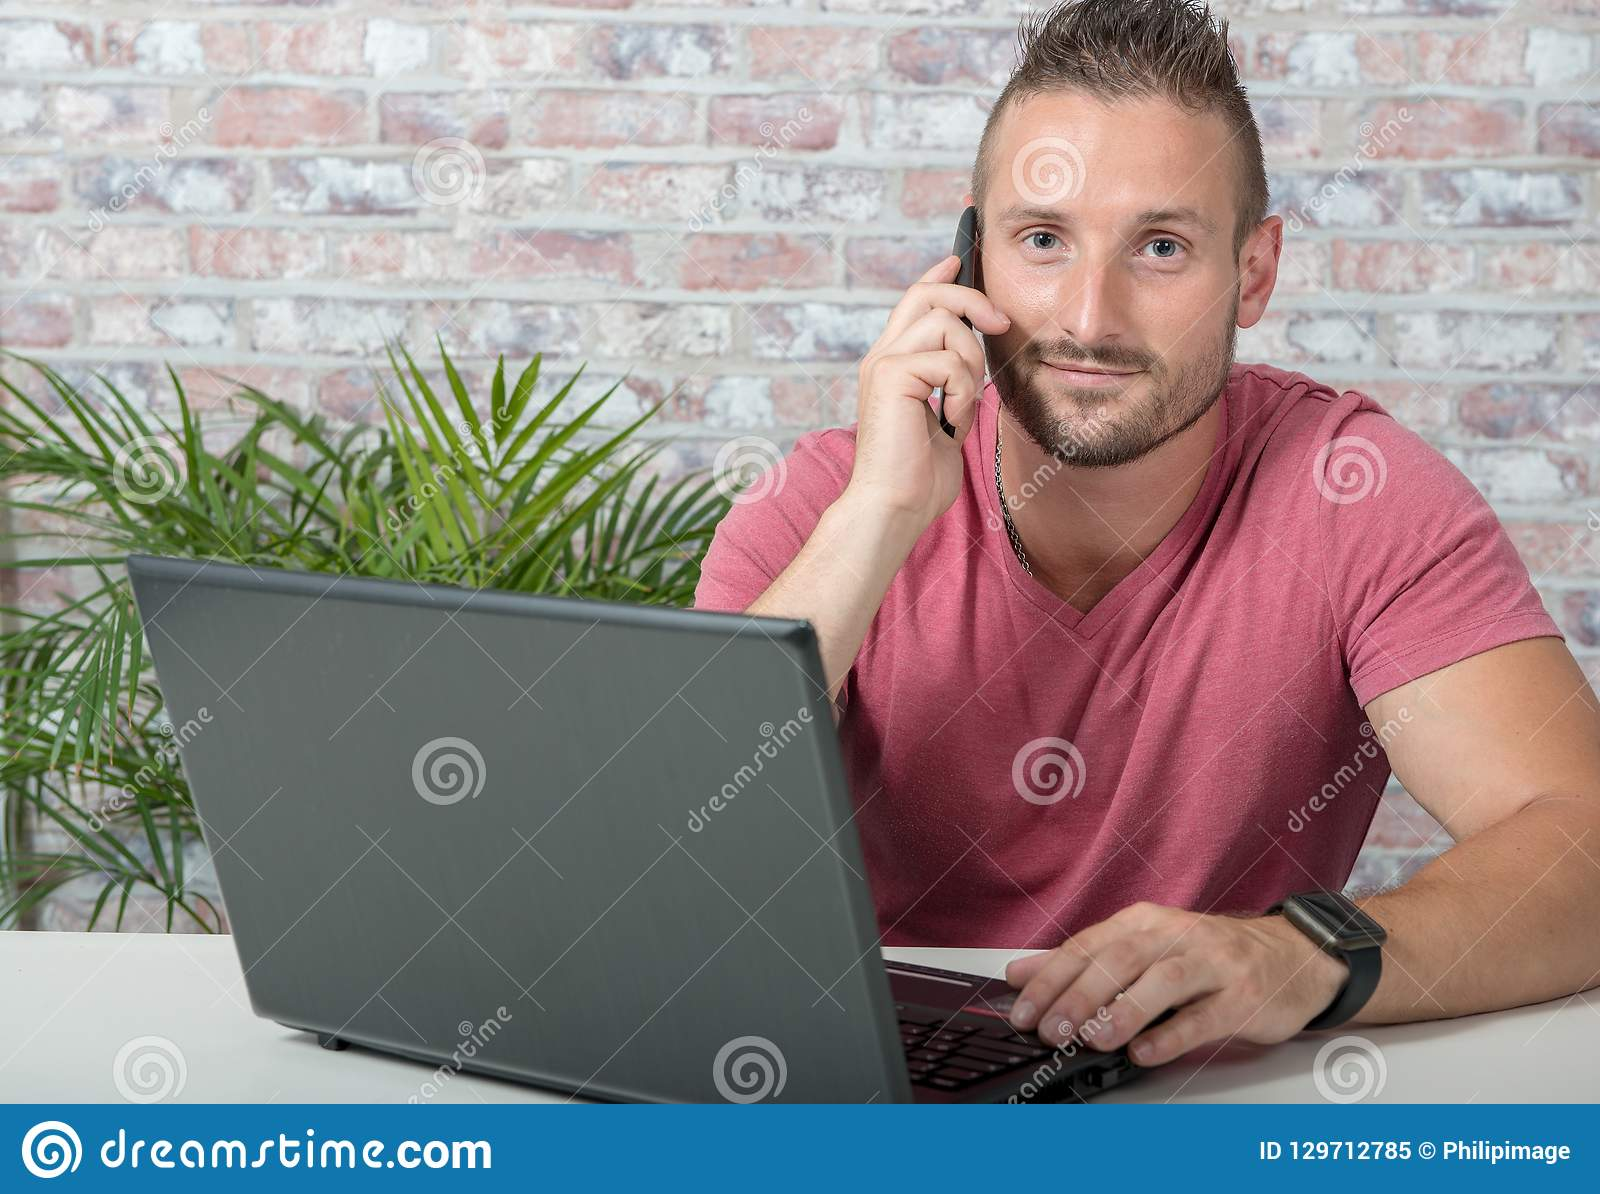phone: (938, 209, 986, 446)
talk: (855, 181, 1218, 539)
